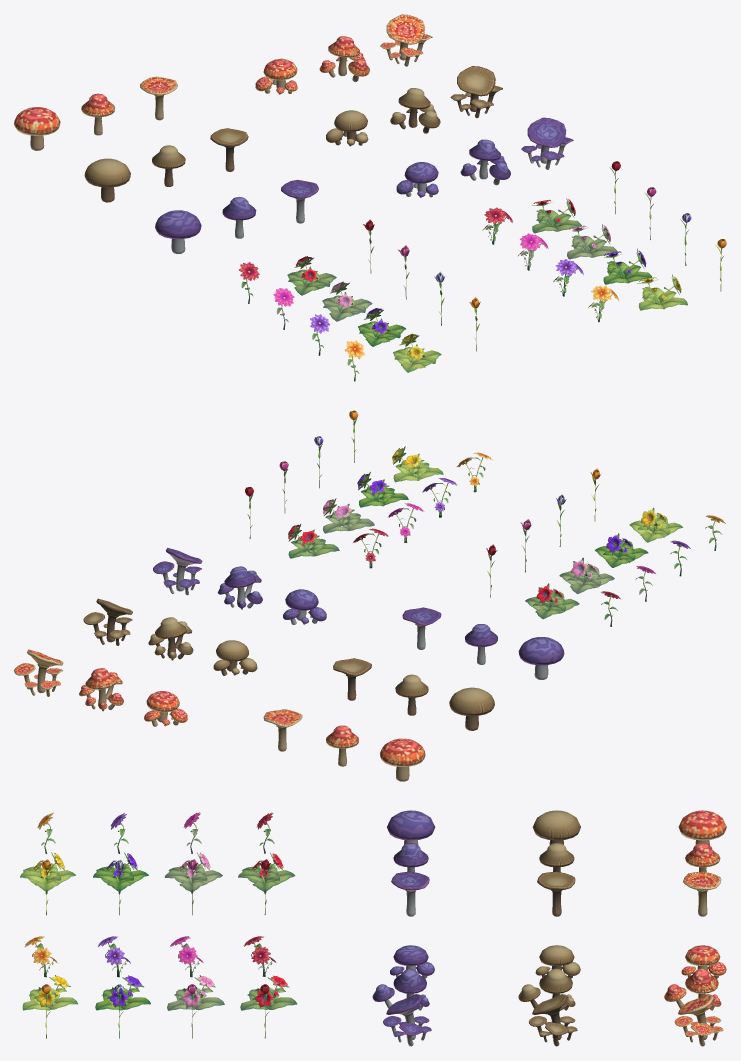
The model's file is foliage.fbx.
3 renders of one model, top to bottom at view 1: azimuth 30°, elevation 25°; view 2: azimuth 150°, elevation 25°; view 3: azimuth 270°, elevation 25°, orthographic. The views are drawn at different scales.
Parts seen in each view (by area): view 1: Circle.611, Circle.605, Circle.606, Mushroom_01_Base, Mushroom_01_Base.001, Mushroom_01_Base.002, Circle.608, Circle.609, Circle.597, Circle.610, Circle.607, Circle.601 (+14 smaller); view 2: Mushroom_01_Base.001, Mushroom_01_Base.002, Mushroom_01_Base, Circle.611, Circle.608, Circle.609, Circle.605, Circle.597, Circle.606, Circle.610, Circle.601, Circle.607 (+14 smaller); view 3: Circle.606, Circle.605, Circle.611, Mushroom_01_Base.002, Mushroom_01_Base.001, Mushroom_01_Base, Circle.609, Circle.608, Circle.597, FlowerB_01.002, FlowerB_02.002, FlowerB_01.003 (+18 smaller).
Boxes of the visible parts, bbox=[...] form: Circle.611: bbox=[380, 14, 432, 66]; Circle.605: bbox=[521, 117, 573, 169]; Circle.606: bbox=[450, 66, 502, 118]; Mushroom_01_Base: bbox=[155, 210, 201, 254]; Mushroom_01_Base.001: bbox=[84, 158, 130, 202]; Mushroom_01_Base.002: bbox=[14, 107, 60, 150]; Circle.608: bbox=[390, 88, 440, 133]; Circle.609: bbox=[319, 36, 369, 82]; Circle.597: bbox=[460, 139, 510, 185]; Circle.610: bbox=[255, 58, 297, 94]; Circle.607: bbox=[326, 110, 368, 146]; Circle.601: bbox=[396, 162, 438, 197]; Mushroom_01_Base.001: bbox=[449, 687, 494, 730]; Mushroom_01_Base.002: bbox=[380, 738, 425, 781]; Mushroom_01_Base: bbox=[518, 637, 564, 679]; Circle.611: bbox=[14, 649, 63, 696]; Circle.608: bbox=[148, 617, 193, 660]; Circle.609: bbox=[79, 668, 123, 711]; Circle.605: bbox=[153, 548, 202, 595]; Circle.597: bbox=[217, 566, 262, 609]; Circle.606: bbox=[83, 598, 132, 645]; Circle.610: bbox=[144, 691, 187, 726]; Circle.601: bbox=[283, 589, 326, 624]; Circle.607: bbox=[213, 640, 257, 675]; Circle.606: bbox=[529, 994, 577, 1046]; Circle.605: bbox=[383, 994, 431, 1046]; Circle.611: bbox=[674, 994, 723, 1046]; Mushroom_01_Base.002: bbox=[678, 810, 726, 844]; Mushroom_01_Base.001: bbox=[532, 810, 580, 844]; Mushroom_01_Base: bbox=[387, 810, 435, 844]; Circle.609: bbox=[664, 968, 721, 1010]; Circle.608: bbox=[518, 968, 575, 1010]; Circle.597: bbox=[372, 968, 429, 1010]; FlowerB_01.002: bbox=[164, 852, 222, 891]; FlowerB_02.002: bbox=[167, 975, 224, 1010]; FlowerB_01.003: bbox=[238, 852, 295, 891].
Size of the model in its own units: 6.78 by 0.8455 by 9.78.
